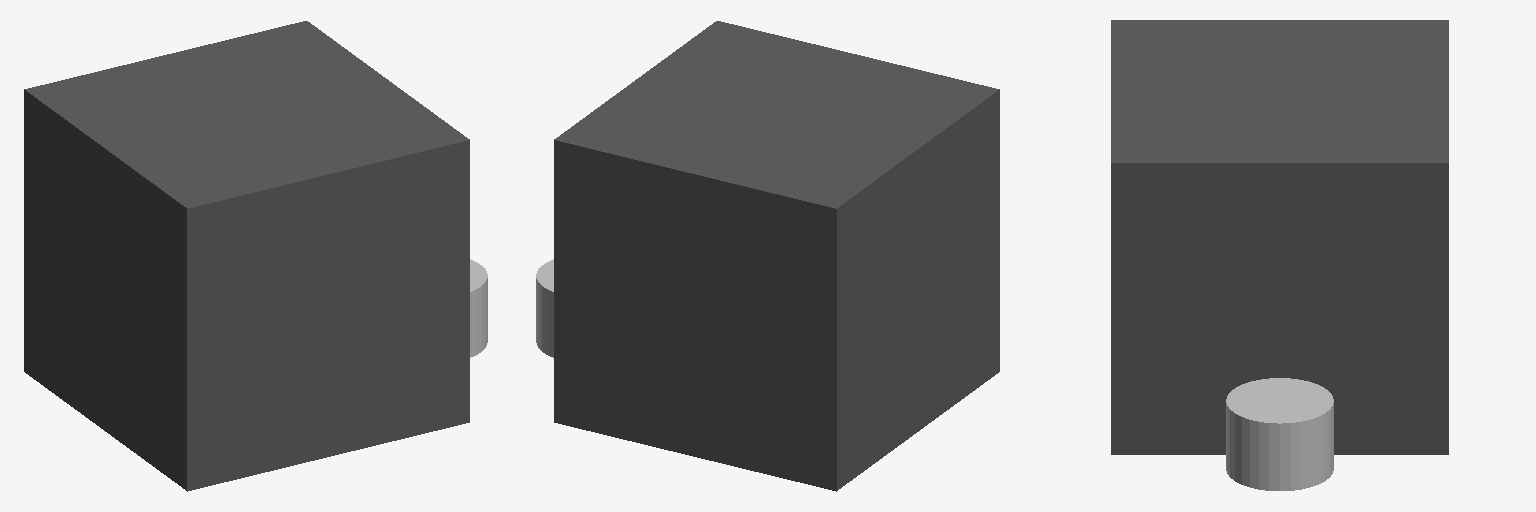
robot.urdf — assist_robot:
<?xml version="1.0"?>
<robot name="assist_robot">
 

  <link name="assist_robot">
    <visual>
      <material name="black"> <color rgba="0.4 0.4 0.4 1"/> </material>
      <geometry>
        <box size="0.45 0.45 0.43"/>
      </geometry>
      <origin xyz="0 0 0.245" rpy="0 0 0"/>
    </visual>
  </link>

  <link name="drogue">
    <visual>
      <material name="silver"> <color rgba="0.8 0.8 0.8 1"/> </material>
      <geometry>
        <cylinder length="0.1" radius="0.072"/>
      </geometry>
      <origin xyz="0 0 -0.05" rpy="0 0 0"/>
    </visual>
  </link>

  <joint name="drogue_joint" type="fixed">
    <parent link="assist_robot"/>
    <child link="drogue"/>
    <origin xyz="0.3 0 0.145" rpy="0 0 0"/>
    <axis xyz="0 0 1" /> 
  </joint>
  
</robot>

--- Facts derived from the render (not from the file) ---
The picture shows the robot from 3 angles, left to right: view 1: azimuth 30°, elevation 25°; view 2: azimuth 150°, elevation 25°; view 3: azimuth 270°, elevation 25°; orthographic projection.
Robot: assist_robot — 2 links, 1 joints (1 fixed); root link assist_robot; default pose: every joint at zero.
Links seen in each view (by area): view 1: assist_robot, drogue; view 2: assist_robot, drogue; view 3: assist_robot, drogue.
Boxes of the visible links, left/top/right/bottom form: assist_robot: left=24, top=21, right=469, bottom=491; drogue: left=470, top=259, right=487, bottom=357; assist_robot: left=554, top=21, right=999, bottom=491; drogue: left=536, top=259, right=553, bottom=357; assist_robot: left=1111, top=20, right=1448, bottom=454; drogue: left=1226, top=378, right=1333, bottom=490.
Size in the robot's own frame: 0.597 by 0.45 by 0.43 metres.
Geometry: primitives only (box / cylinder / sphere), no mesh files.